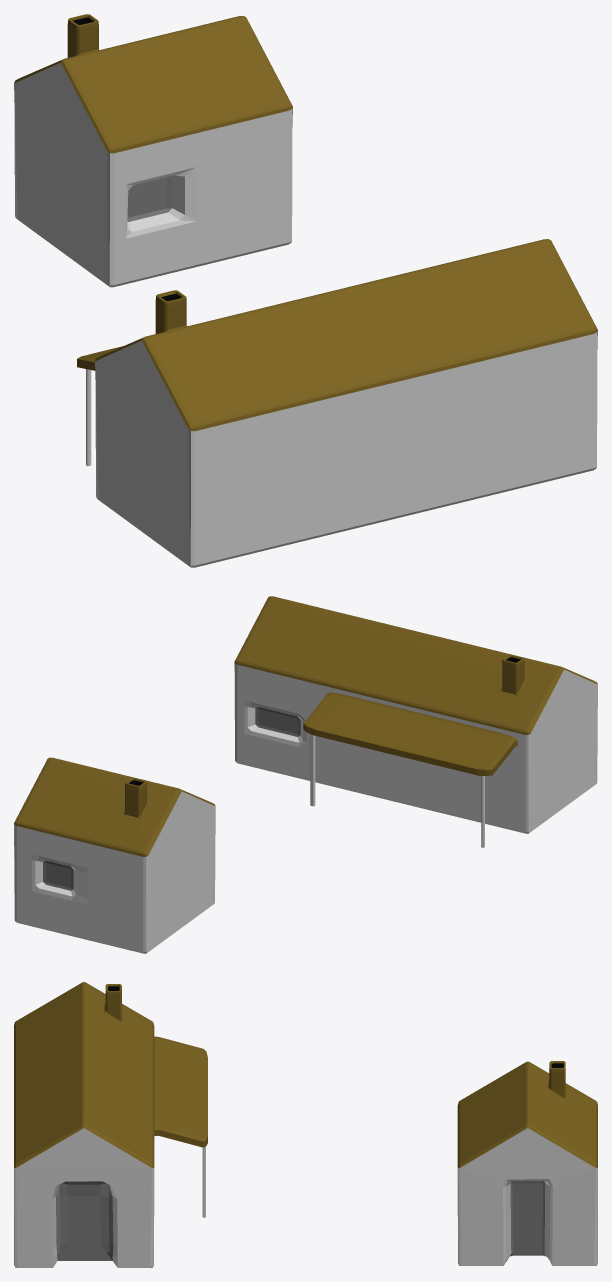
The model's file is Buildings.fbx.
3 renders of one model, top to bottom at view 1: azimuth 30°, elevation 25°; view 2: azimuth 150°, elevation 25°; view 3: azimuth 270°, elevation 25°, orthographic. The views are drawn at different scales.
Parts seen in each view (by area): view 1: LongHouse, Small House; view 2: LongHouse, Small House; view 3: LongHouse, Small House.
Boxes of the visible parts, x1,y1,x2,y2 form: LongHouse: (77, 239, 597, 567); Small House: (14, 14, 292, 287); LongHouse: (234, 596, 597, 847); Small House: (14, 757, 215, 953); LongHouse: (14, 982, 207, 1267); Small House: (457, 1061, 597, 1265).
Bounding box in the file's own units: 2455 × 1208 × 4166.
